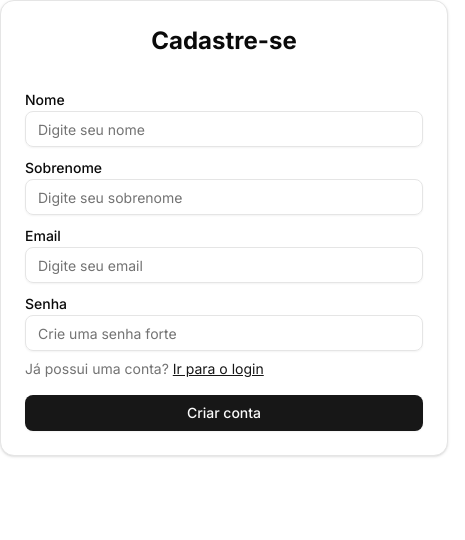
Test: RegisterForm › mostra erro se a API retornar erro
Type "João" into the field labelled "Nome". click: (224, 129)
box: 25,111 -> 423,147
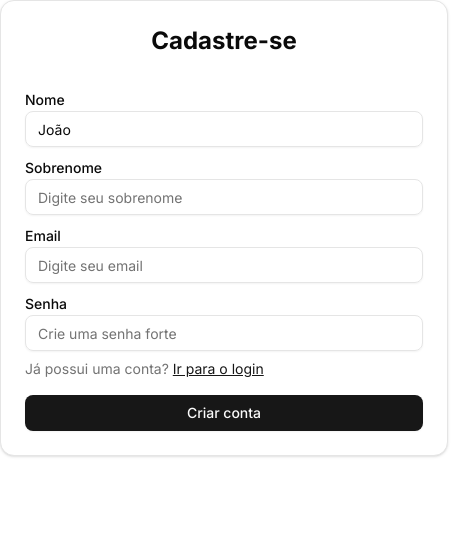
Type "Silva" into the field labelled "Sobrenome". click: (224, 197)
box: 25,179 -> 423,215
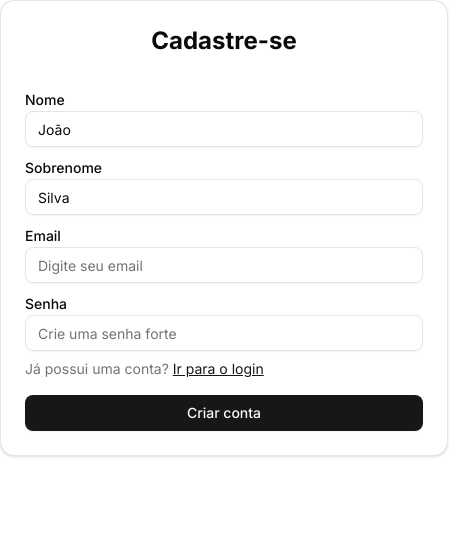
Type "joao@email.com" into the field labelled "Email". click: (224, 265)
box: 25,247 -> 423,283
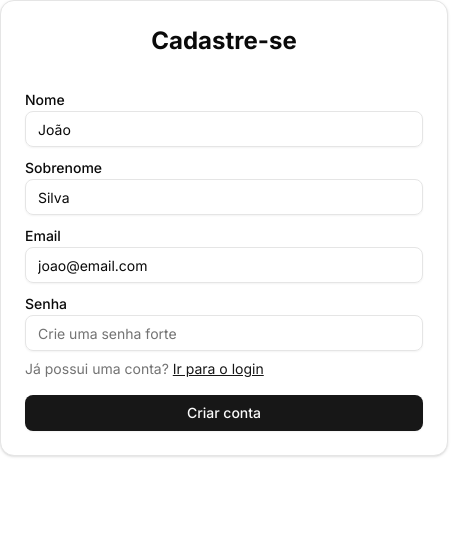
Type "12345678" into the password field labelled "Senha". click: (224, 333)
box: 25,315 -> 423,351
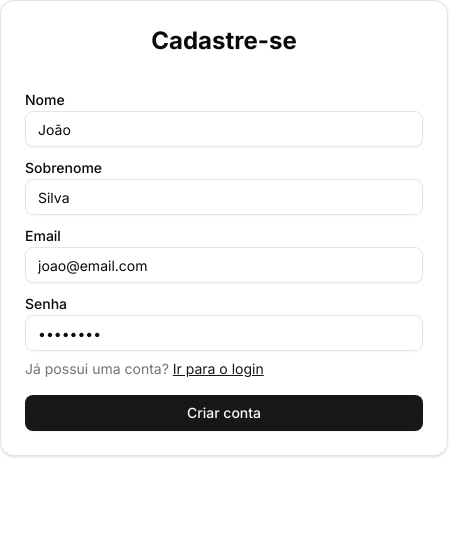
Click the button "Criar conta". click: (224, 413)
box: 25,395 -> 423,431
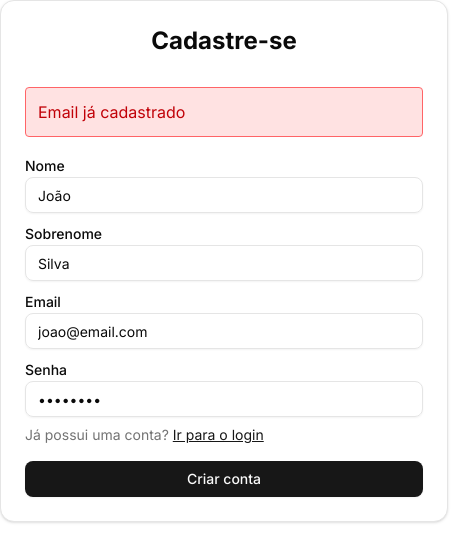
Now the text "Email já cadastrado" is shown, box 25,87 -> 423,137
